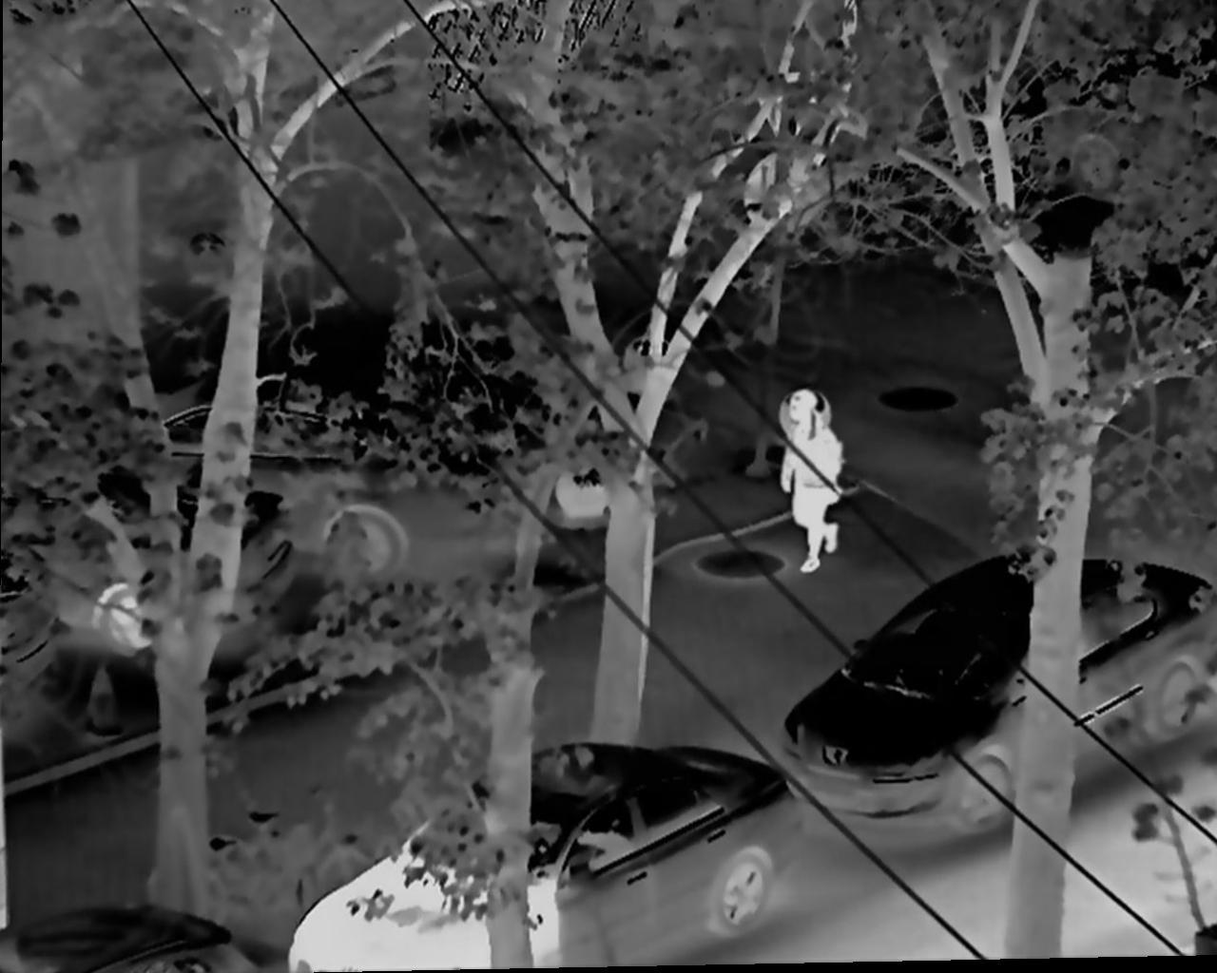person: (781, 392, 852, 570)
